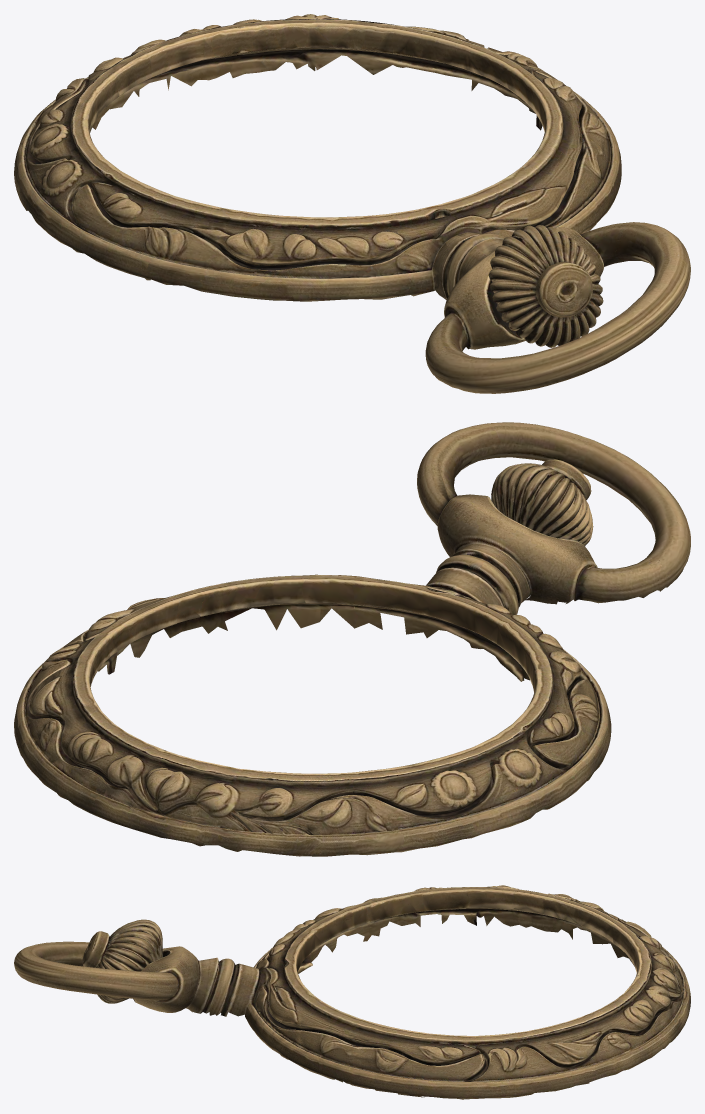
Rendered from reloj-bisel.glb.
3 renders of one model, top to bottom at view 1: azimuth 30°, elevation 25°; view 2: azimuth 150°, elevation 25°; view 3: azimuth 270°, elevation 25°, orthographic. The views are drawn at different scales.
Bounding box in the file's own units: 1.25 × 0.245 × 1.87.
Materials: 1 (1 with a texture image).
